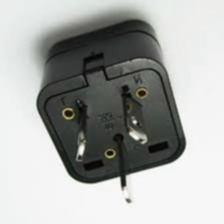three_eye_plug: (30, 15, 189, 210)
